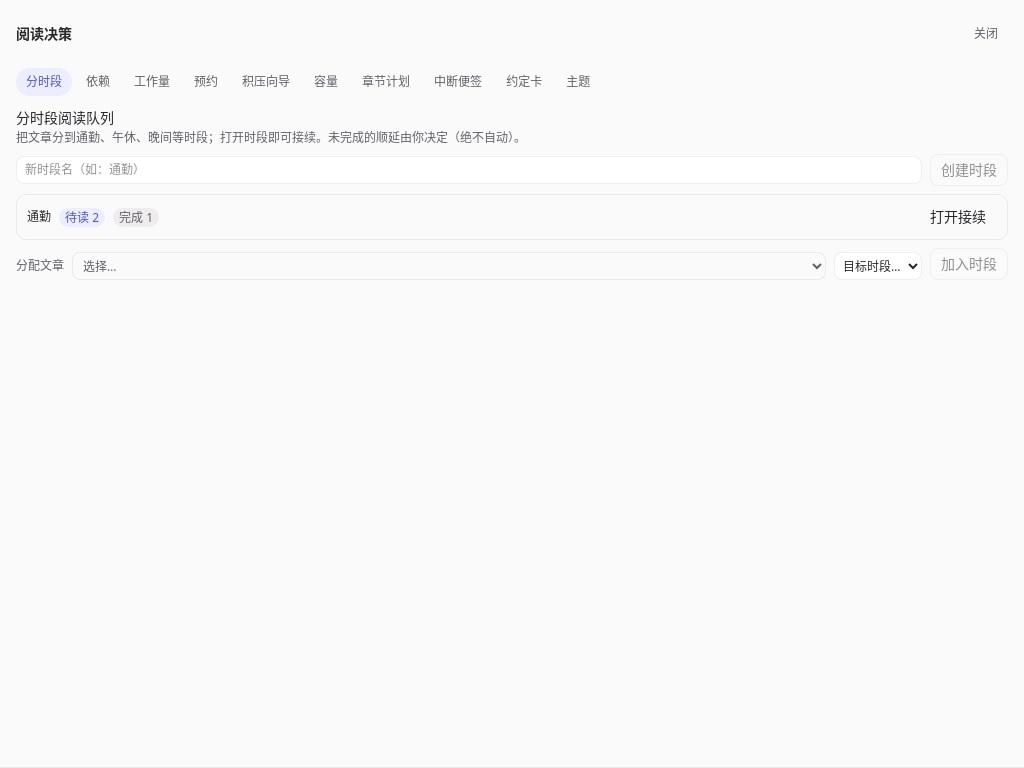
阅读决策面板（NEW-221..230） › 默认渲染分时段队列，创建时段真实 POST 并出现在列表
Check: the text "通勤" is shown, box [27,209,51,225]
Check: the text "待读 2" is shown, box [59,208,105,226]
In the field labelled "新时段名": (469, 170) [16,156,922,184], type "晚间"
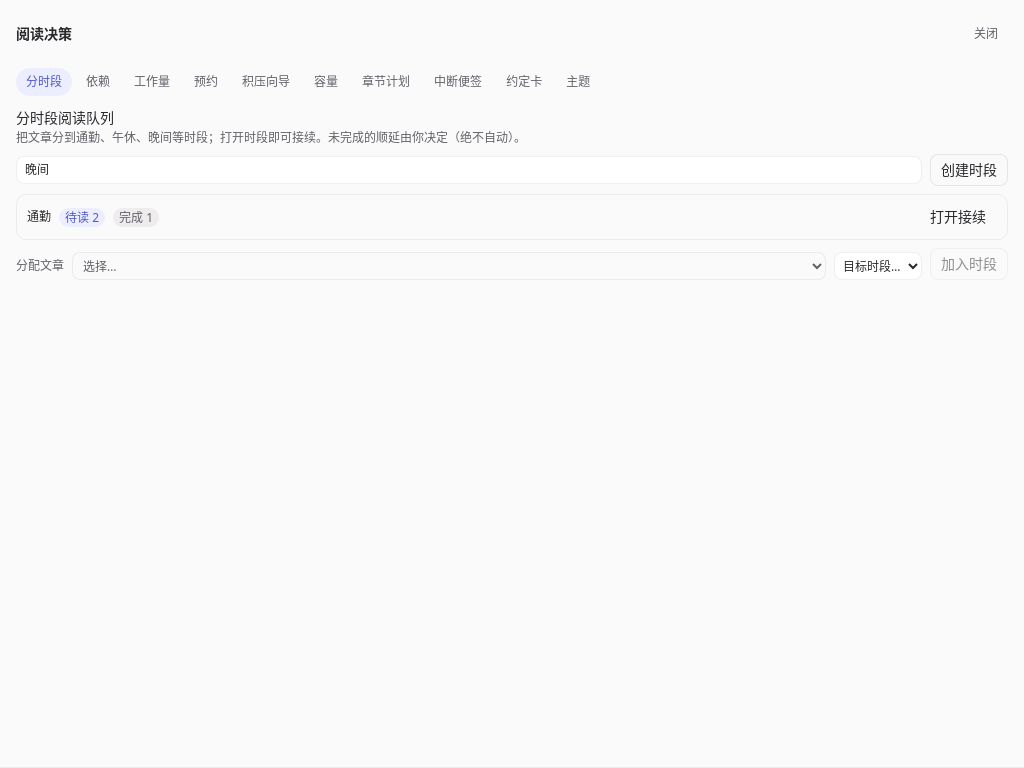
Click the button "创建时段": (969, 170) [930,154,1008,186]
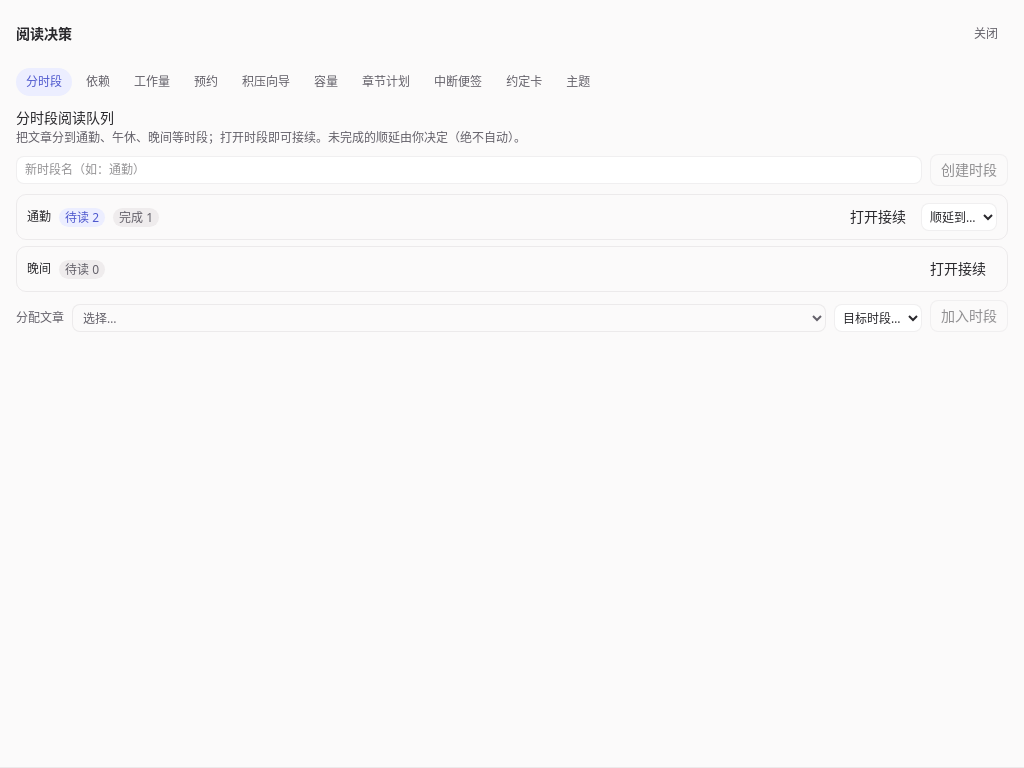
Check: the text "晚间" is shown, box [27,261,51,277]
